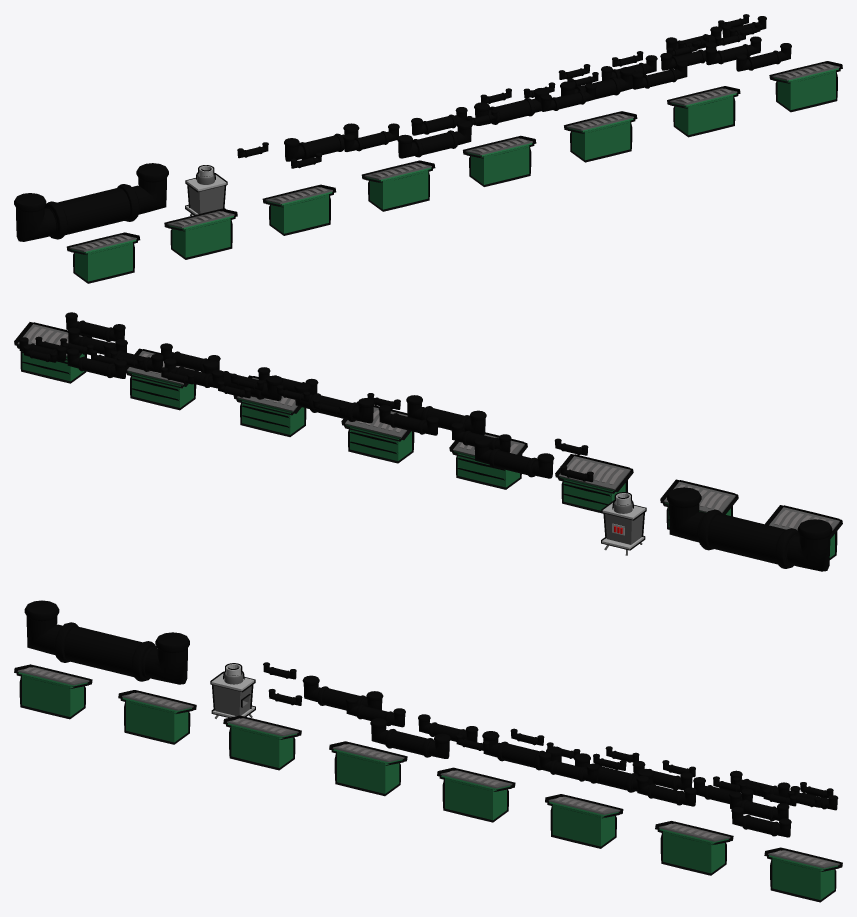
Rendered from World4.fbx.
3 views of the same model, one above another, from view 1: azimuth 30°, elevation 25°; view 2: azimuth 150°, elevation 25°; view 3: azimuth 330°, elevation 25° (orthographic). The views are drawn at different scales.
Parts seen in each view (by area): view 1: pCube1 (×8), SM_PipeA1 (×4), SM_PipeB1, SM_PipeB, pCube20; view 2: pCube1 (×11), SM_PipeA1 (×4), SM_PipeB1, pCube9 (×3), SM_PipeB, pCube20; view 3: pCube1 (×8), SM_PipeA1 (×5), SM_PipeB, SM_PipeB1, pCube20.
Part boxes in pixels (left/top/right/bottom): pCube1 (×8): left=71, top=68, right=838, bottom=281; SM_PipeA1 (×4): left=44, top=98, right=534, bottom=239; SM_PipeB1: left=14, top=193, right=57, bottom=241; SM_PipeB: left=132, top=163, right=168, bottom=214; pCube20: left=188, top=185, right=224, bottom=213; pCube1 (×11): left=19, top=345, right=629, bottom=513; SM_PipeA1 (×4): left=309, top=393, right=799, bottom=568; SM_PipeB1: left=785, top=519, right=832, bottom=571; pCube9 (×3): left=345, top=407, right=735, bottom=512; SM_PipeB: left=667, top=487, right=706, bottom=542; pCube20: left=605, top=513, right=643, bottom=544; pCube1 (×8): left=18, top=672, right=837, bottom=899; SM_PipeA1 (×5): left=54, top=622, right=638, bottom=792; SM_PipeB: left=141, top=632, right=189, bottom=684; SM_PipeB1: left=24, top=600, right=62, bottom=655; pCube20: left=213, top=684, right=251, bottom=715.
Bounding box in the file's own units: 27863 × 2179 × 3248.
